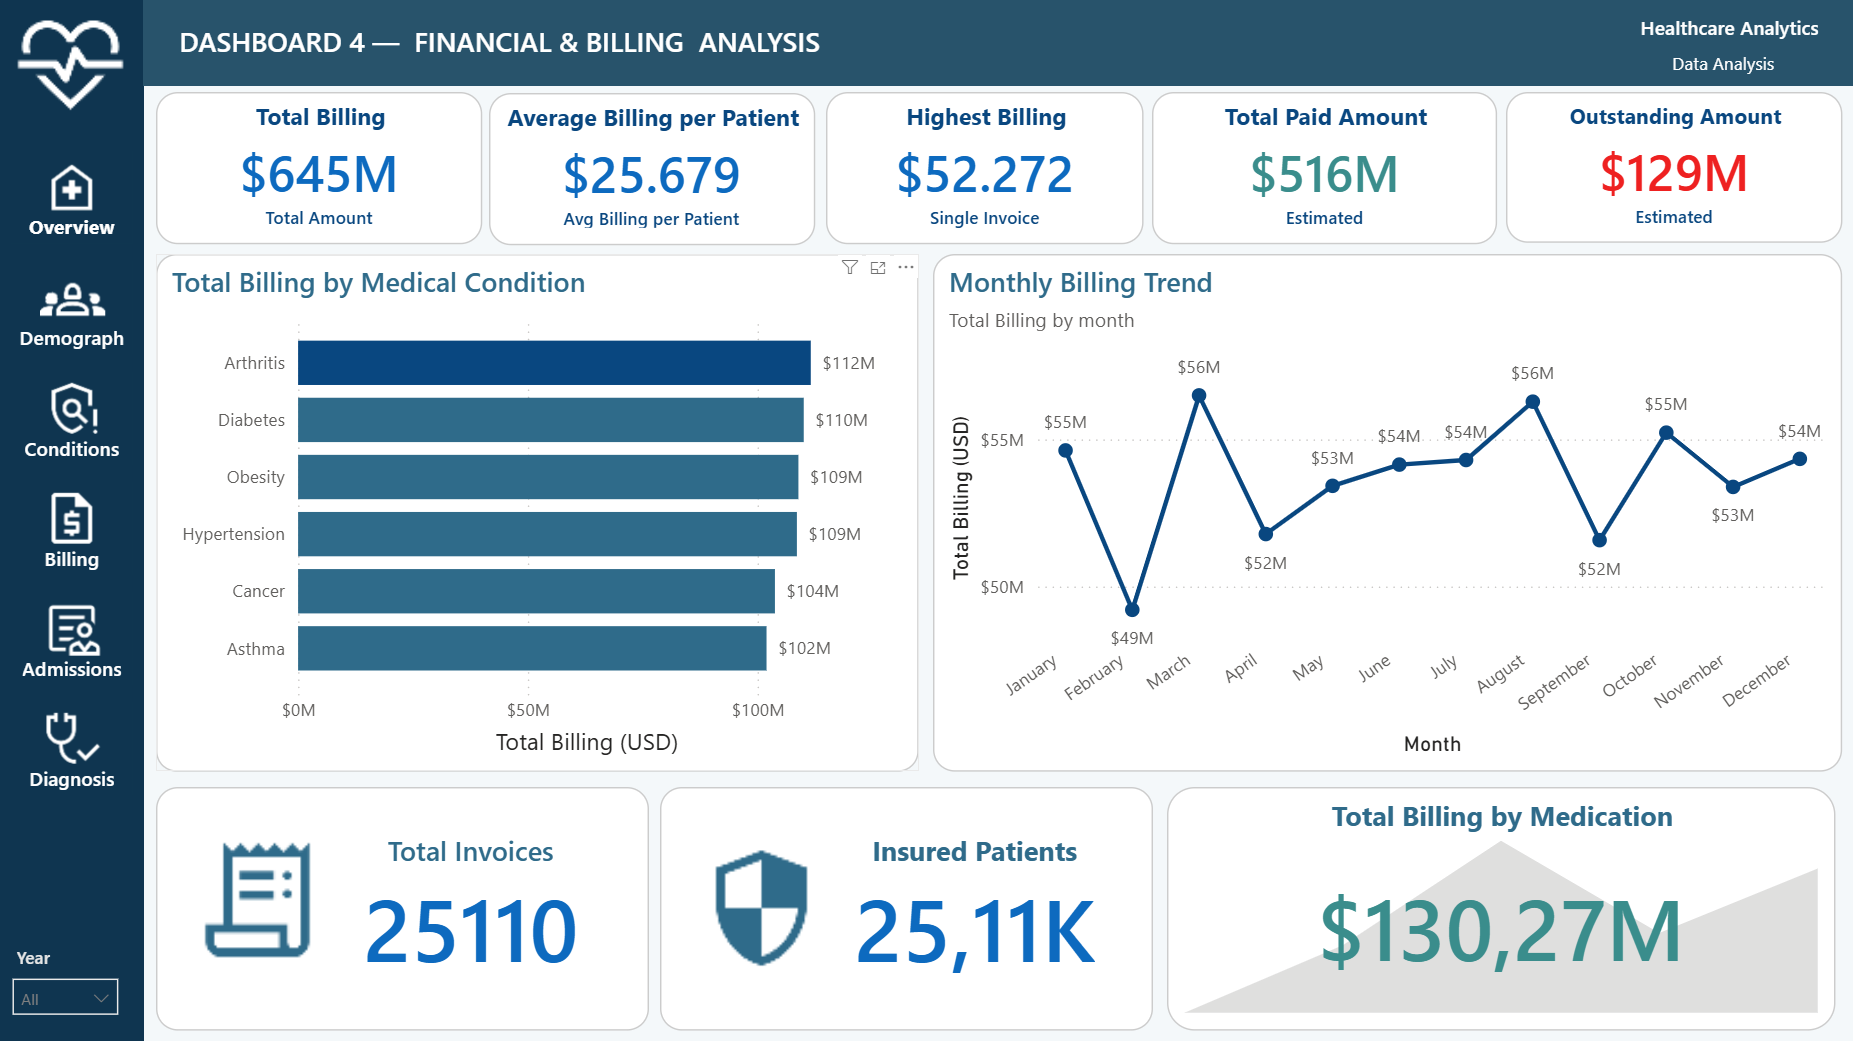

What the dashboard file says about the page in this screenshot:
{"tool":"powerbi","page":{"name":"Billing","canvas":[1280,720],"ordinal":3},"visuals":[{"type":"group","id":"g1","title":"Navigation Bar","box":[0.6,0,100.2,720],"z":0},{"type":"shape","title":"Sidebar","box":[0.6,0,100,720],"z":1000,"group":"g1"},{"type":"shape","box":[99.9,0,1180.1,60.2],"z":1000},{"type":"actionButton","title":"NAV - Overview","box":[9.2,105,84,64],"z":1500,"group":"g1"},{"type":"textbox","title":"Left header title","box":[120,12,500.7,35],"z":2000},{"type":"actionButton","title":"NAV - Demographics","box":[9.2,181,84,64.5],"z":2000,"group":"g1"},{"type":"textbox","box":[1070.2,5.5,190.4,29.5],"z":3000},{"type":"actionButton","title":"NAV - Conditions","box":[9.2,257,84,64.5],"z":3000,"group":"g1"},{"type":"textbox","box":[1113.2,29.5,153.6,30.1],"z":4000},{"type":"actionButton","title":"NAV - Billing","box":[9.2,333,84,64.5],"z":4000,"group":"g1"},{"type":"image","box":[0,0,99.6,89.7],"z":5000},{"type":"actionButton","title":"NAV - Admissions","box":[9.2,409,84,64.5],"z":5000,"group":"g1"},{"type":"cardVisual","title":"Total Billing","fields":{"Data":["Healthcare Dataset.Total Billing"]},"box":[108.7,63.9,225.3,104.7],"z":6000},{"type":"actionButton","title":"NAV - Diagnosis","box":[9.2,485,84,64.5],"z":6000,"group":"g1"},{"type":"cardVisual","title":"Outstanding Amount","fields":{"Data":["Healthcare Dataset.Estimated Outstanding Amount"]},"box":[1040,64,232,104],"z":7000},{"type":"cardVisual","title":"Highest Billing","fields":{"Data":["Healthcare Dataset.Highest Billing"]},"box":[570.7,63.9,219.3,105.3],"z":8000},{"type":"cardVisual","title":"Average Billing per Patient","fields":{"Data":["Healthcare Dataset.Avg Billing per Patient"]},"box":[338.5,64.5,224.7,104.7],"z":9000},{"type":"cardVisual","title":"Total Paid Amount","fields":{"Data":["Healthcare Dataset.Estimated Paid Amount"]},"box":[796,64,238,105],"z":10000},{"type":"clusteredBarChart","title":"Total Billing by Medical Condition","fields":{"Category":["Healthcare Dataset.Medical Condition"],"Y":["Healthcare Dataset.Total Billing"]},"box":[108.7,175.7,526.5,356.9],"z":11000},{"type":"lineChart","title":"Monthly Billing Trend","fields":{"Category":["Healthcare Dataset.Date of Admission.Variation.Date Hierarchy.Month"],"Y":["Healthcare Dataset.Total Billing"]},"box":[645.1,175.7,627.2,356.9],"z":12000},{"type":"cardVisual","title":"Total Invoices","fields":{"Data":["Healthcare Dataset.Total Invoices"]},"box":[108.7,543.7,340,167.7],"z":13000},{"type":"cardVisual","fields":{"Data":["Healthcare Dataset.Insured Patients"]},"box":[456.5,543.7,340,167.7],"z":14000},{"type":"kpi","fields":{"Indicator":["Healthcare Dataset.Total Billing"],"TrendLine":["Healthcare Dataset.Medication"]},"box":[806,543.7,460.8,167.7],"z":15000},{"type":"slicer","fields":{"Values":["Healthcare Dataset.Date of Admission.Variation.Date Hierarchy.Year"]},"box":[0,647.6,92.8,55.1],"z":16000}]}

Visuals, with their boxes in screenshot pixels (x1, y1, x2, y2), scaled from the page's 1280x720 canvas onto the 1853x1041 screenshot:
"Navigation Bar" group: rect(1, 0, 146, 1040)
"Sidebar" shape: rect(1, 0, 146, 1040)
shape: rect(145, 0, 1852, 87)
"NAV - Overview" actionButton: rect(13, 152, 135, 244)
"Left header title" textbox: rect(174, 17, 899, 68)
"NAV - Demographics" actionButton: rect(13, 262, 135, 355)
textbox: rect(1549, 8, 1825, 51)
"NAV - Conditions" actionButton: rect(13, 372, 135, 465)
textbox: rect(1612, 43, 1834, 86)
"NAV - Billing" actionButton: rect(13, 481, 135, 575)
image: rect(0, 0, 144, 130)
"NAV - Admissions" actionButton: rect(13, 591, 135, 685)
"Total Billing" cardVisual: rect(157, 92, 484, 244)
"NAV - Diagnosis" actionButton: rect(13, 701, 135, 794)
"Outstanding Amount" cardVisual: rect(1506, 93, 1841, 243)
"Highest Billing" cardVisual: rect(826, 92, 1144, 245)
"Average Billing per Patient" cardVisual: rect(490, 93, 815, 245)
"Total Paid Amount" cardVisual: rect(1152, 93, 1497, 244)
"Total Billing by Medical Condition" clusteredBarChart: rect(157, 254, 920, 770)
"Monthly Billing Trend" lineChart: rect(934, 254, 1842, 770)
"Total Invoices" cardVisual: rect(157, 786, 650, 1029)
cardVisual - Healthcare Dataset.Insured Patients: rect(661, 786, 1153, 1029)
kpi - Healthcare Dataset.Total Billing x Healthcare Dataset.Medication: rect(1167, 786, 1834, 1029)
slicer - Healthcare Dataset.Date of Admission.Variation.Date Hierarchy.Year: rect(0, 936, 134, 1016)
